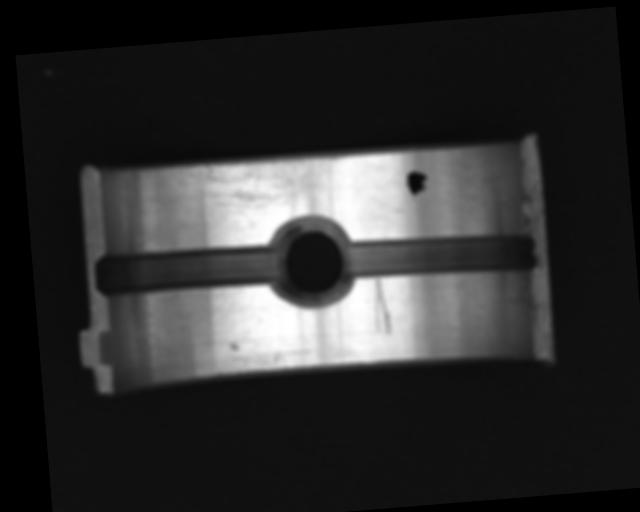blot: (404, 168, 431, 202)
bruise: (229, 341, 240, 352)
gap: (342, 225, 542, 289), (93, 241, 284, 301)
hole: (268, 215, 354, 307)
nick: (370, 276, 394, 336)
scratch: (169, 150, 351, 218)
